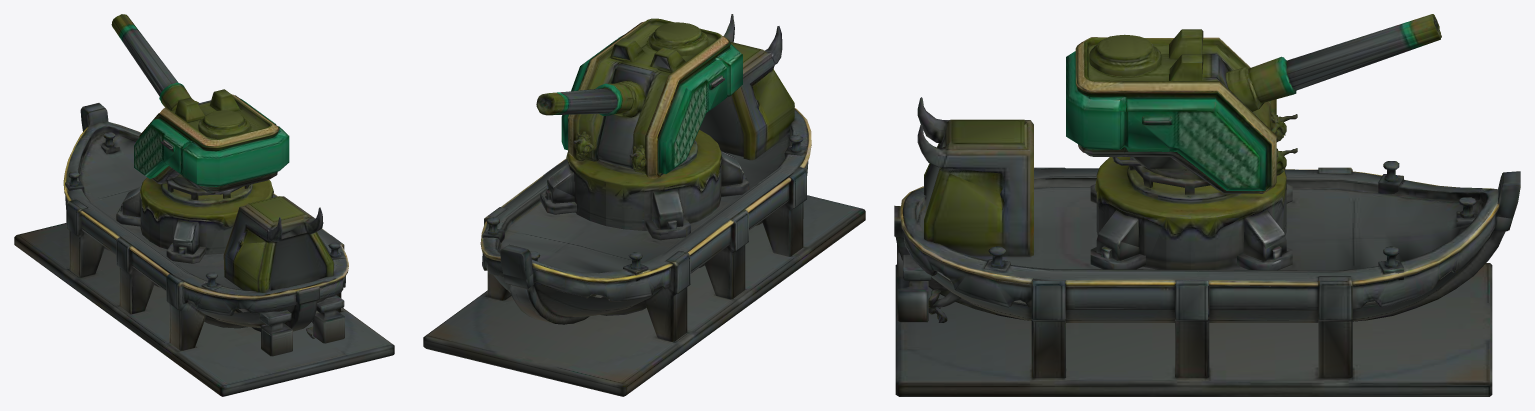
Rendered from gun_wharf.glb.
The picture shows the model from 3 angles, left to right: view 1: azimuth 30°, elevation 25°; view 2: azimuth 150°, elevation 25°; view 3: azimuth 270°, elevation 25°; orthographic projection. The views are drawn at different scales.
Visible parts, largest first — view 1: Body, Turret, Barrel; view 2: Body, Turret, Barrel; view 3: Body, Turret, Barrel, Trim.
Part boxes in pixels (x1,y1,x2,y2): Body: (14, 14, 394, 396); Turret: (114, 17, 289, 254); Barrel: (80, 103, 119, 143); Body: (423, 14, 865, 396); Turret: (547, 18, 742, 230); Barrel: (500, 110, 613, 279); Body: (894, 14, 1512, 396); Turret: (1066, 18, 1430, 269); Barrel: (1293, 41, 1520, 218); Trim: (1286, 17, 1434, 73).
Size of the model in its own units: 6.44 by 7.97 by 14.
2 materials, 2 textured.
